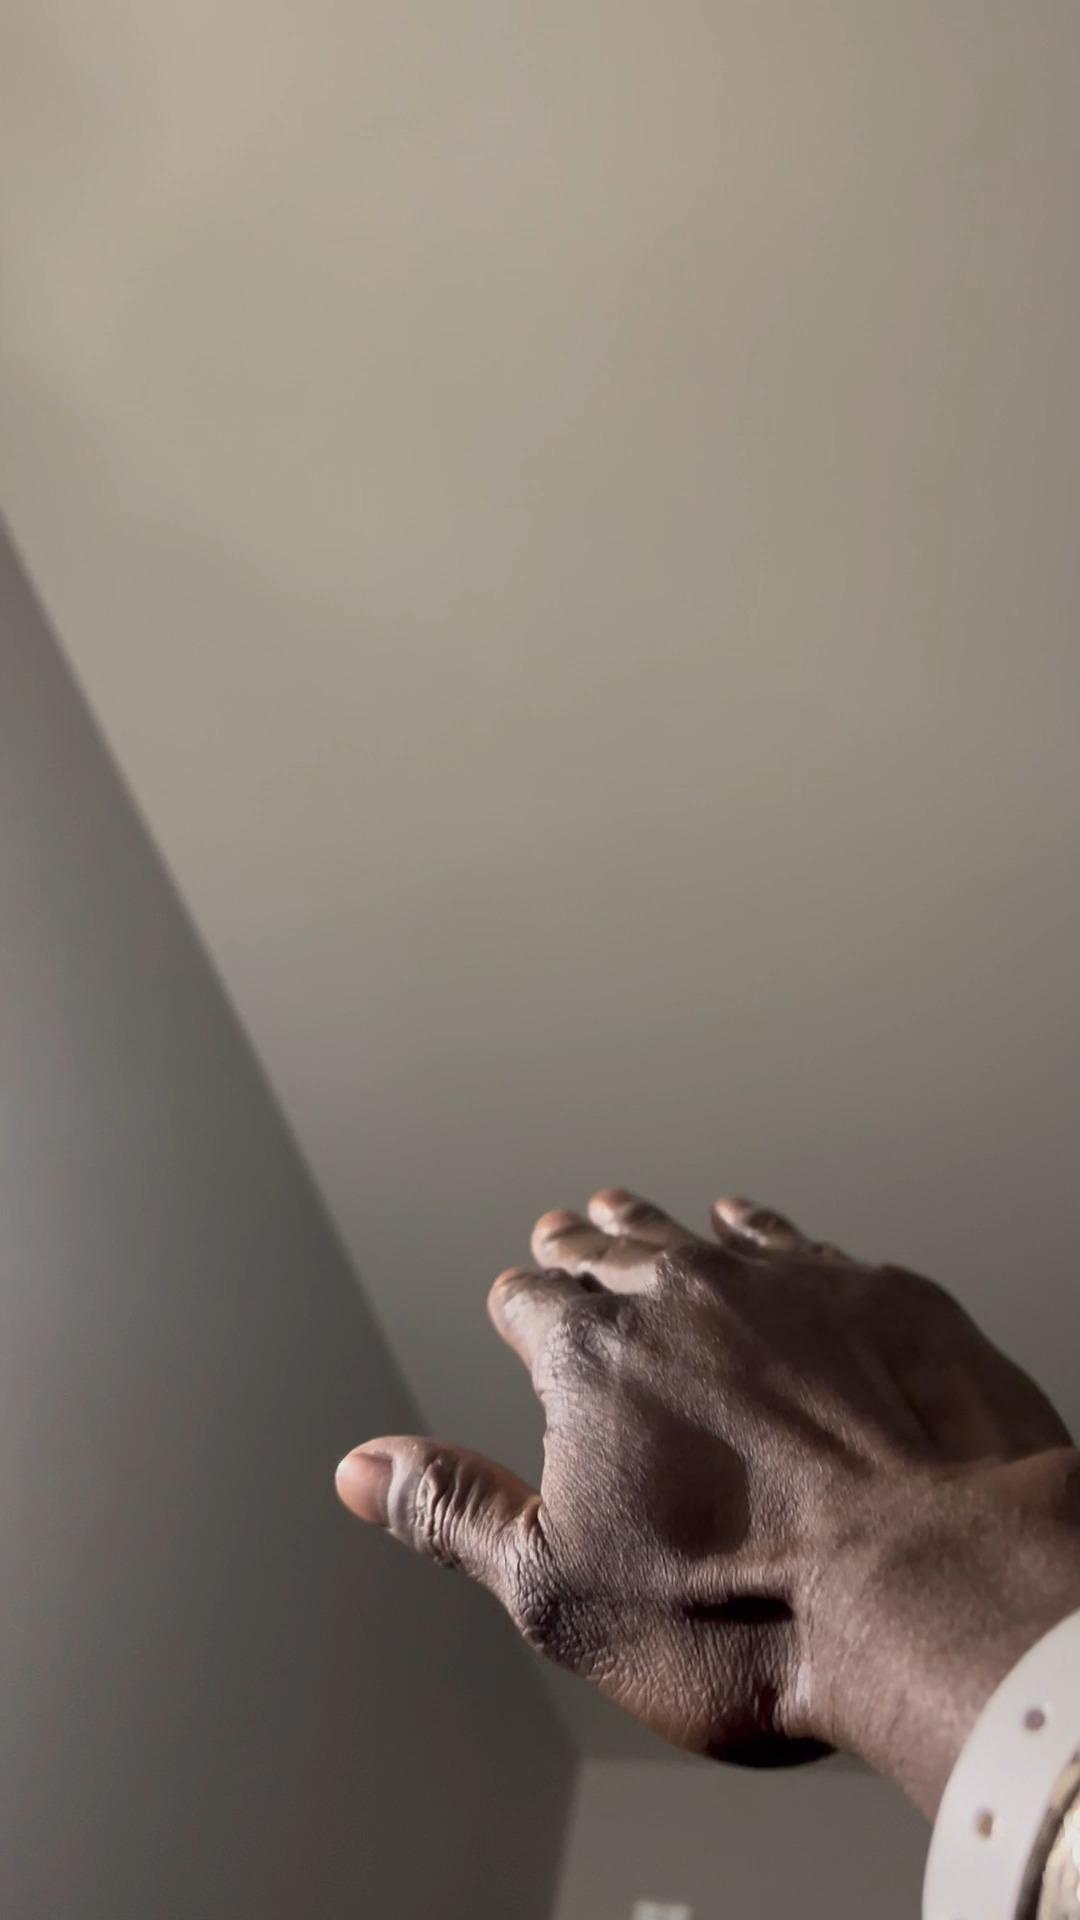Paper: (334, 1176, 1080, 1763)
